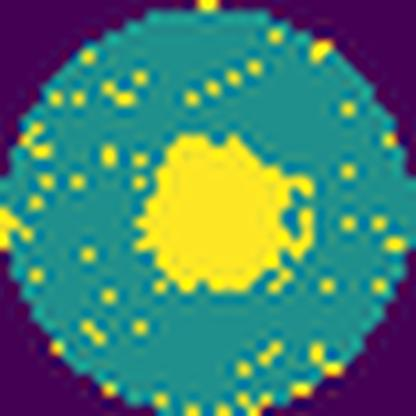Center: (128, 134, 317, 297)
